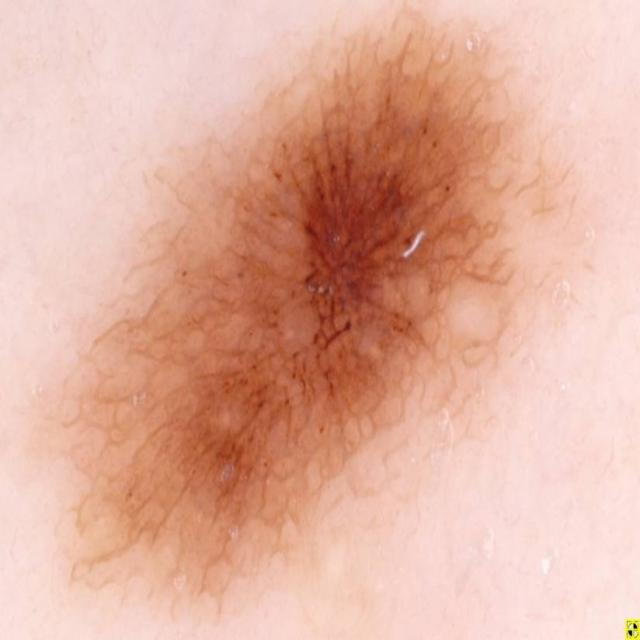Benign: (61, 19, 553, 592)
